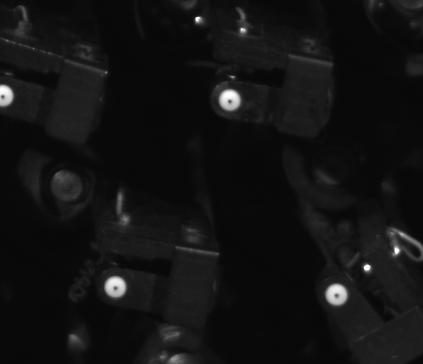fiber: (317, 278, 354, 311), (212, 82, 247, 116), (95, 270, 133, 301), (1, 81, 21, 112)
